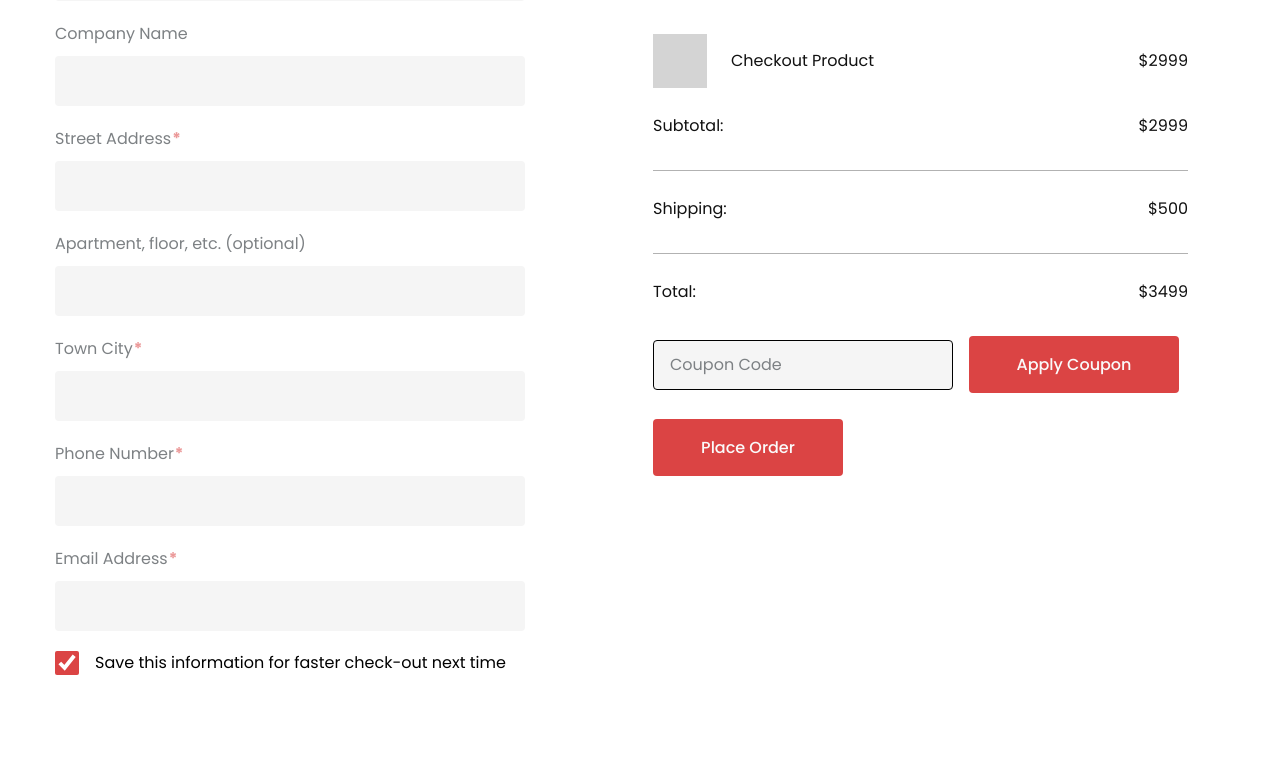
Test: CheckoutPage › validates and applies a coupon to the checkout totals
This screenshot has width=1280, height=764.
(page scrolled)
Type "save10" into the field with placeholder "Coupon Code" at (803, 364), box [653,340,953,390]
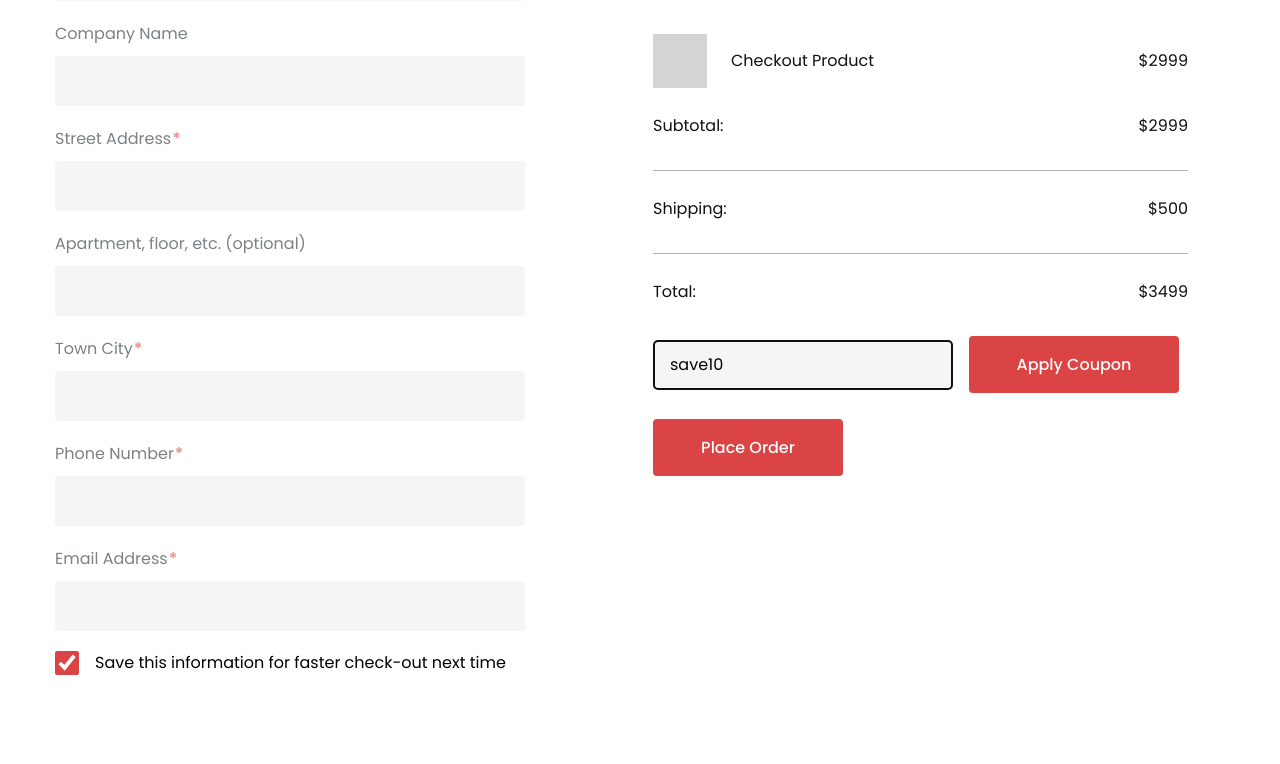
Click the button "Apply Coupon" at (1074, 364), box [969,336,1179,393]
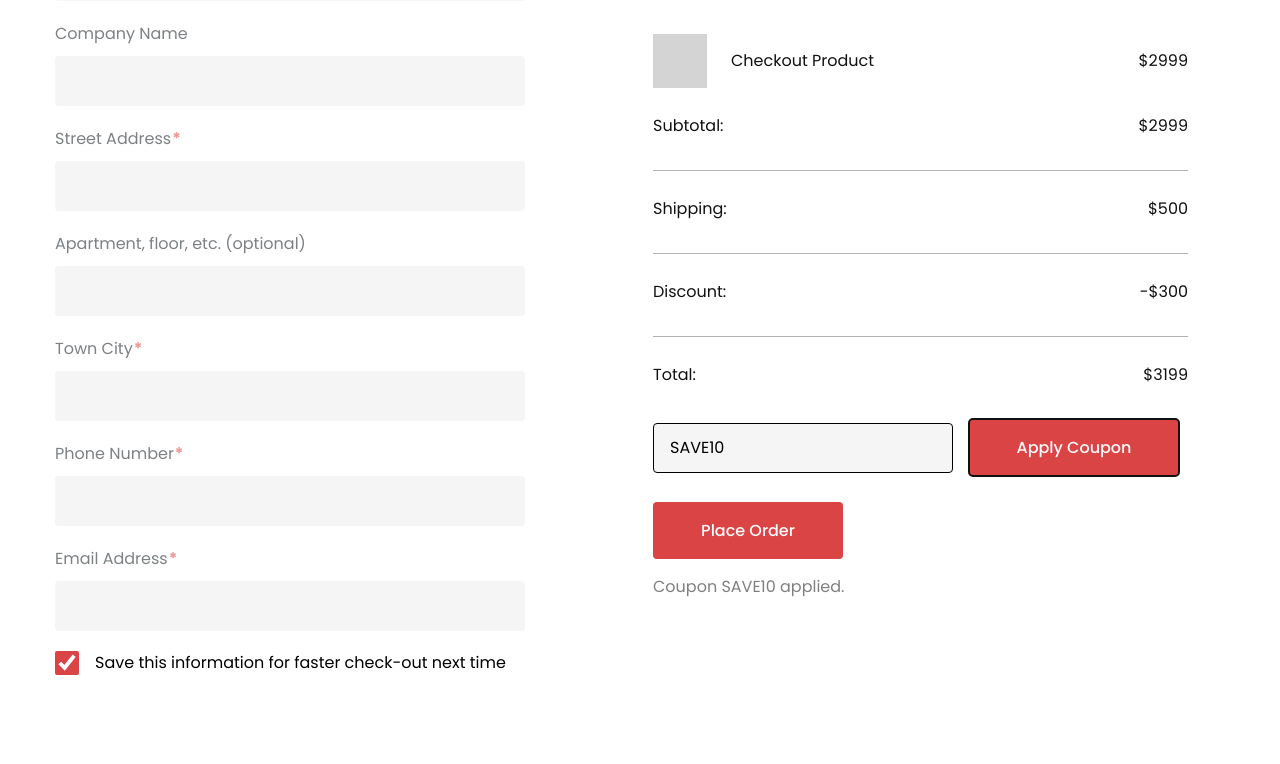
Check: the text "Coupon SAVE10 applied." is shown, box [653,575,844,598]
Check: the text "-$300" is shown, box [1140,280,1188,304]
